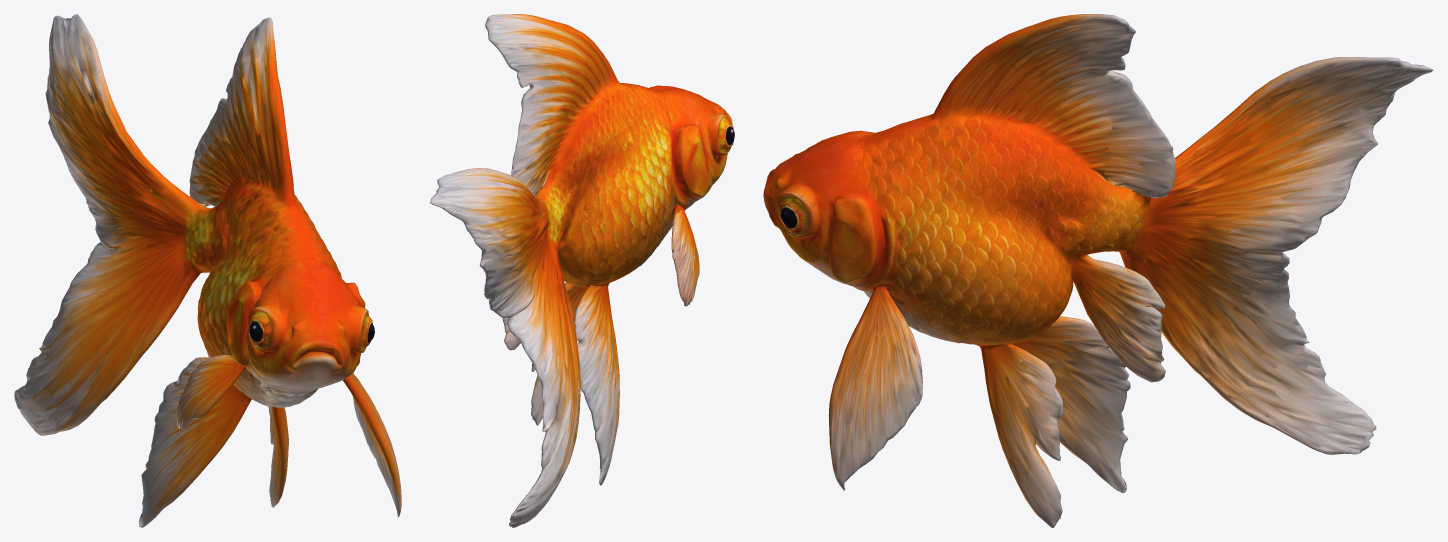
The model's file is goldfish.glb.
3 renders of one model, left to right at view 1: azimuth 30°, elevation 25°; view 2: azimuth 150°, elevation 25°; view 3: azimuth 270°, elevation 25°, orthographic. The views are drawn at different scales.
Visible parts, largest first — view 1: Body; view 2: Body; view 3: Body.
Part boxes in pixels (<box>): Body: <box>14,14,401,527</box>; Body: <box>430,14,734,527</box>; Body: <box>763,14,1433,527</box>.
Bounding box in the file's own units: 0.4828 × 1.31 × 1.46.
1 material, 1 textured.
